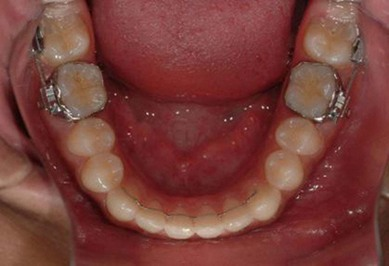LL1BC_healthy: (264, 146, 303, 189)
LL1M_decay: (291, 64, 348, 118)
LL2BC_healthy: (280, 120, 325, 152)
LL2M_decay: (307, 19, 364, 62)
LLCI_decay: (194, 206, 222, 238)
LLC_decay: (244, 184, 284, 222)
LLLI_decay: (224, 200, 249, 232)
LR1BC_healthy: (84, 155, 123, 192)
LR1M_decay: (52, 65, 106, 113)
LR2BC_healthy: (71, 121, 114, 156)
LR2M_decay: (40, 12, 90, 60)
LRCI_decay: (168, 207, 194, 239)
LRC_decay: (104, 183, 139, 222)
LRLI_decay: (137, 201, 167, 234)
